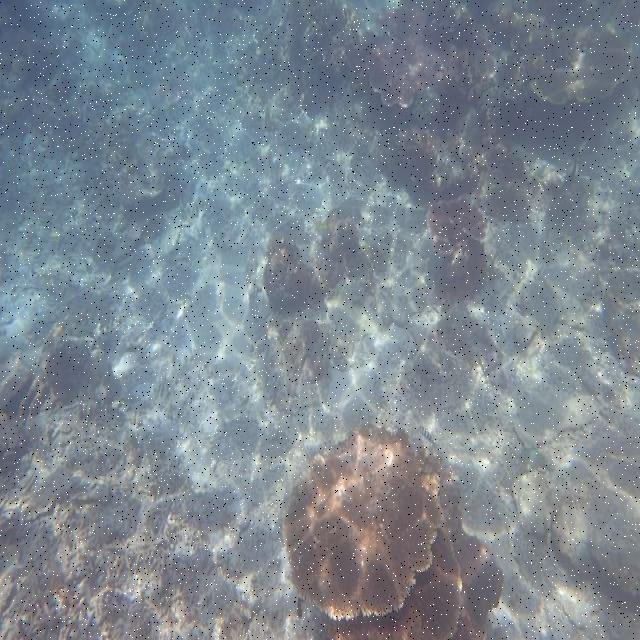reefs: (284, 423, 462, 638)
